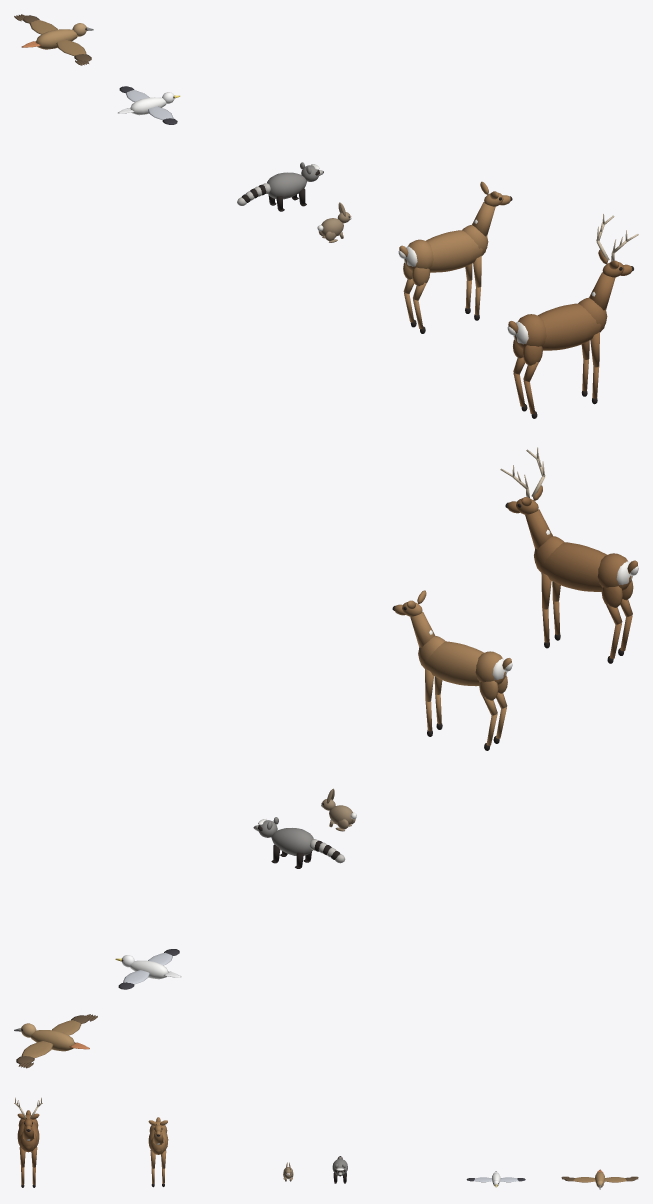
Rendered from fauna.glb.
The picture shows the model from 3 angles, top to bottom: view 1: azimuth 30°, elevation 25°; view 2: azimuth 150°, elevation 25°; view 3: azimuth 270°, elevation 25°; orthographic projection. The views are drawn at different scales.
Visible parts, largest first — view 1: buck_body, doe_body, buck_head, doe_head, raccoon_body, hawk_body, buck_legBR, gull_body, doe_legBR; view 2: buck_body, doe_body, buck_head, doe_head, raccoon_body, hawk_body; view 3: buck_body, buck_head, doe_body, doe_head, buck_legFL, buck_legFR, hawk_wingR, hawk_wingL.
Part boxes in pixels (box(x1,y1,x2,y2)): buck_body: box(513, 297, 607, 350); doe_body: box(403, 225, 488, 272); buck_head: box(589, 213, 638, 310); doe_head: box(472, 181, 512, 236); raccoon_body: box(267, 172, 306, 199); hawk_body: box(21, 23, 93, 49); buck_legBR: box(523, 345, 542, 418); gull_body: box(118, 92, 180, 115); doe_legBR: box(412, 267, 430, 333); buck_body: box(534, 536, 632, 591); doe_body: box(418, 636, 507, 686); buck_head: box(500, 447, 552, 549); doe_head: box(392, 590, 435, 647); raccoon_body: box(271, 828, 313, 855); hawk_body: box(14, 1023, 89, 1051); buck_body: box(17, 1114, 39, 1152); buck_head: box(14, 1097, 42, 1141); doe_body: box(148, 1121, 168, 1154); doe_head: box(148, 1120, 167, 1145); buck_legFL: box(31, 1147, 37, 1187); buck_legFR: box(19, 1147, 25, 1187); hawk_wingR: box(561, 1176, 595, 1182); hawk_wingL: box(604, 1176, 638, 1182).
Bounding box in the file's own units: 1.59 × 2.17 × 12.03.
